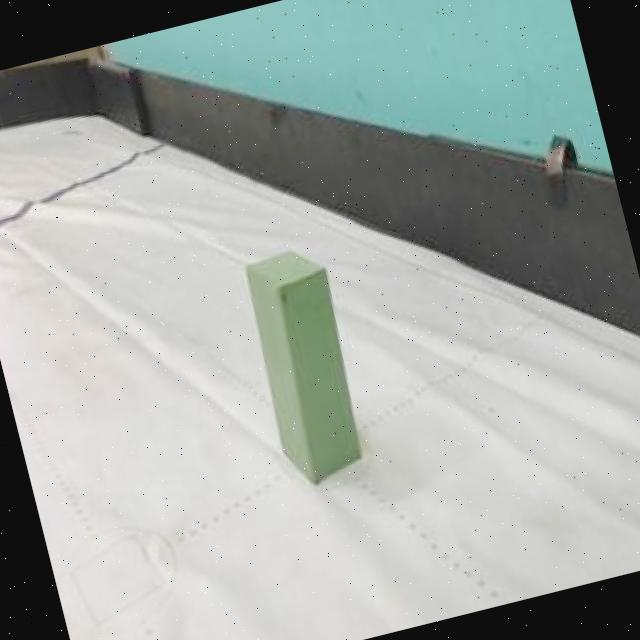greenbox: (234, 239, 380, 491)
